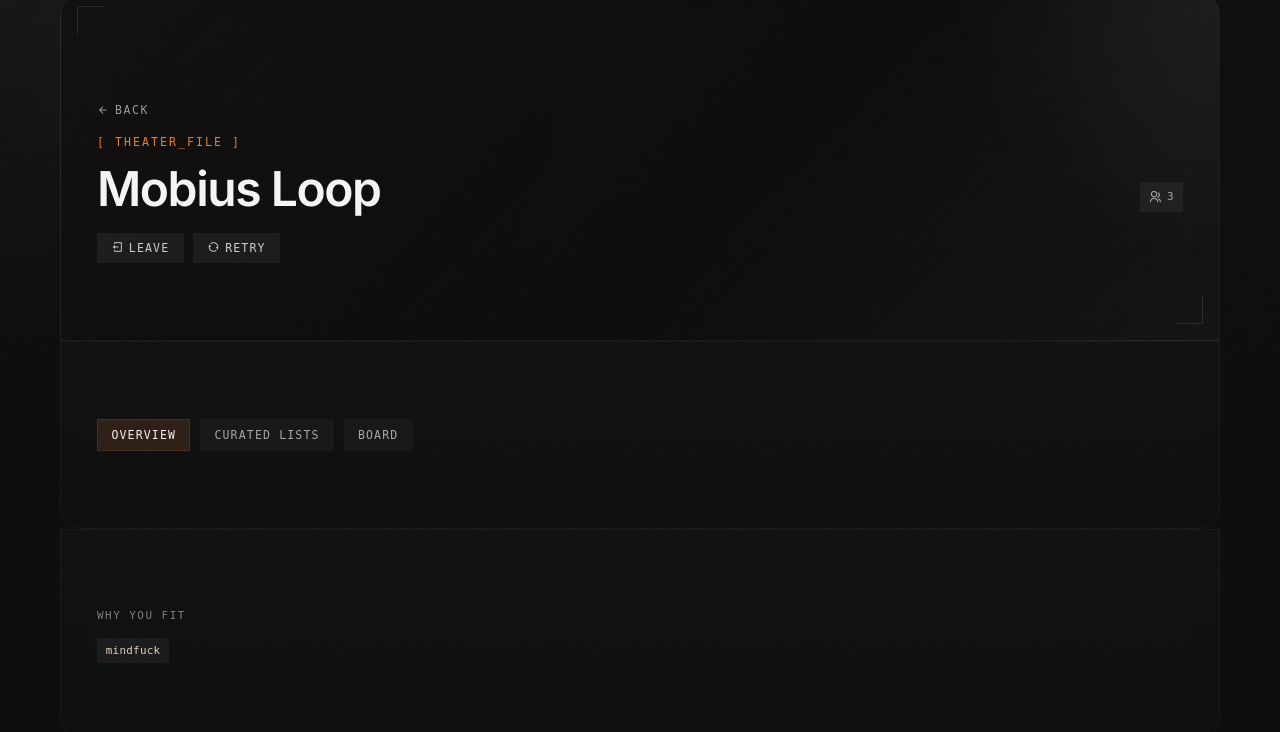
Scenario: TheaterDetailPage › appends and removes list items
The width and height of the screenshot is (1280, 732).
Click the tab "Curated Lists" at (267,435), box [200,419,334,451]
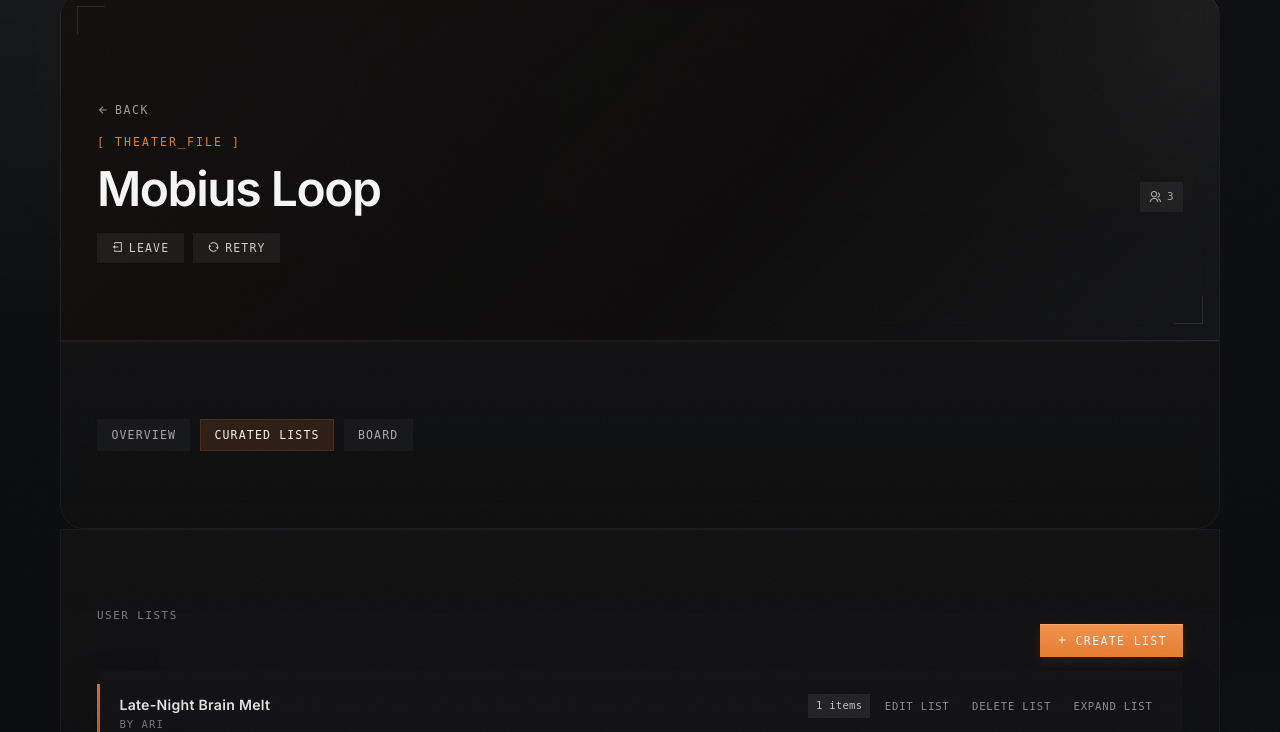
Now the text "Late-Night Brain Melt" is shown, box [119,694,270,716]
Click the button "Expand List" at (1113,706), box [1066,695,1161,716]
(page scrolled)
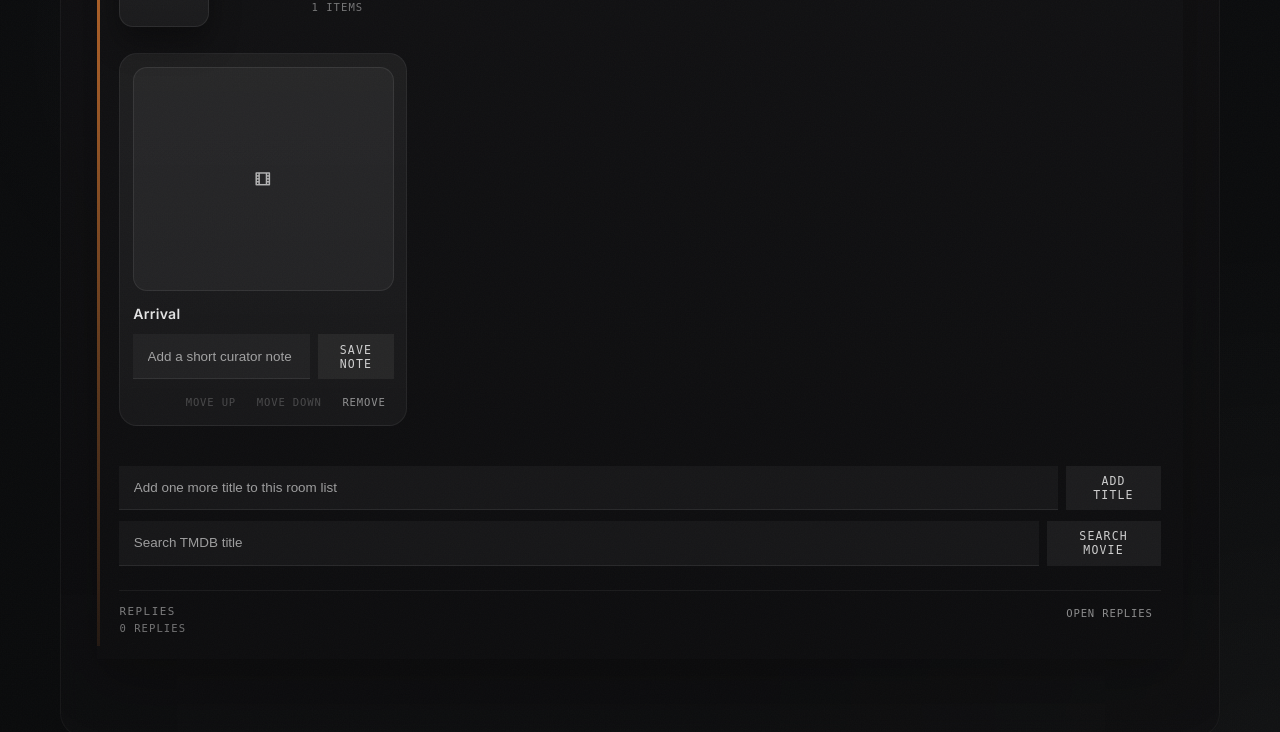
Type "Burning" into the field with placeholder "Add one more title to this room list" at (589,488), box [119,466,1058,510]
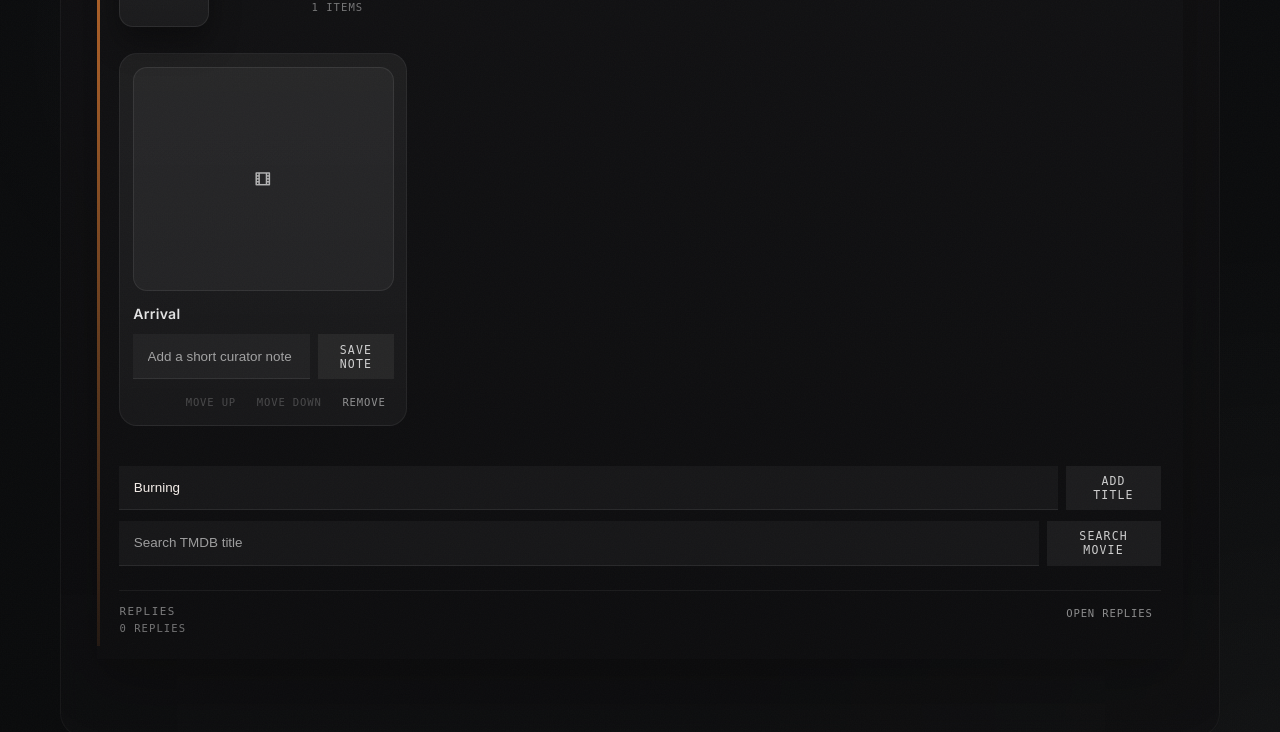
Click the button "Add Title" at (1114,488), box [1066,466,1161,510]
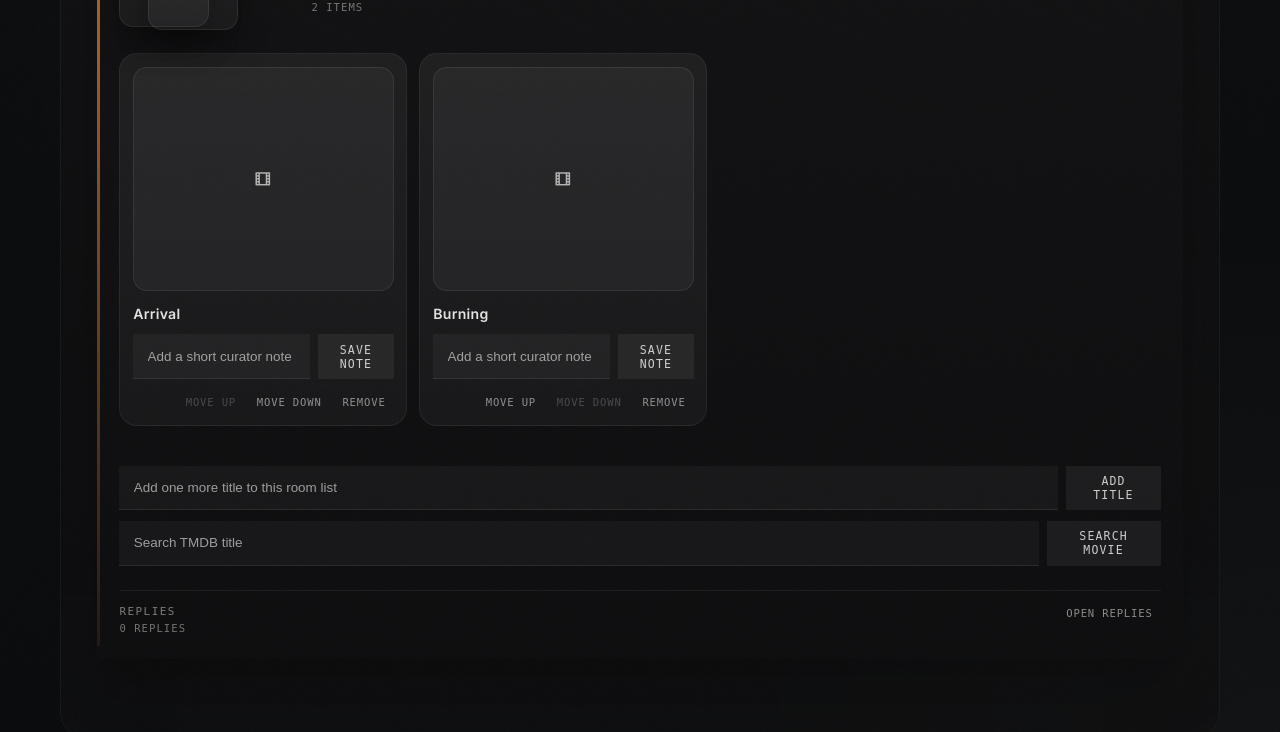
Now the text "Burning" is shown once, box [433,305,488,322]
Click the 1st button "Remove" at (364,402), box [334,391,394,412]
(page scrolled)
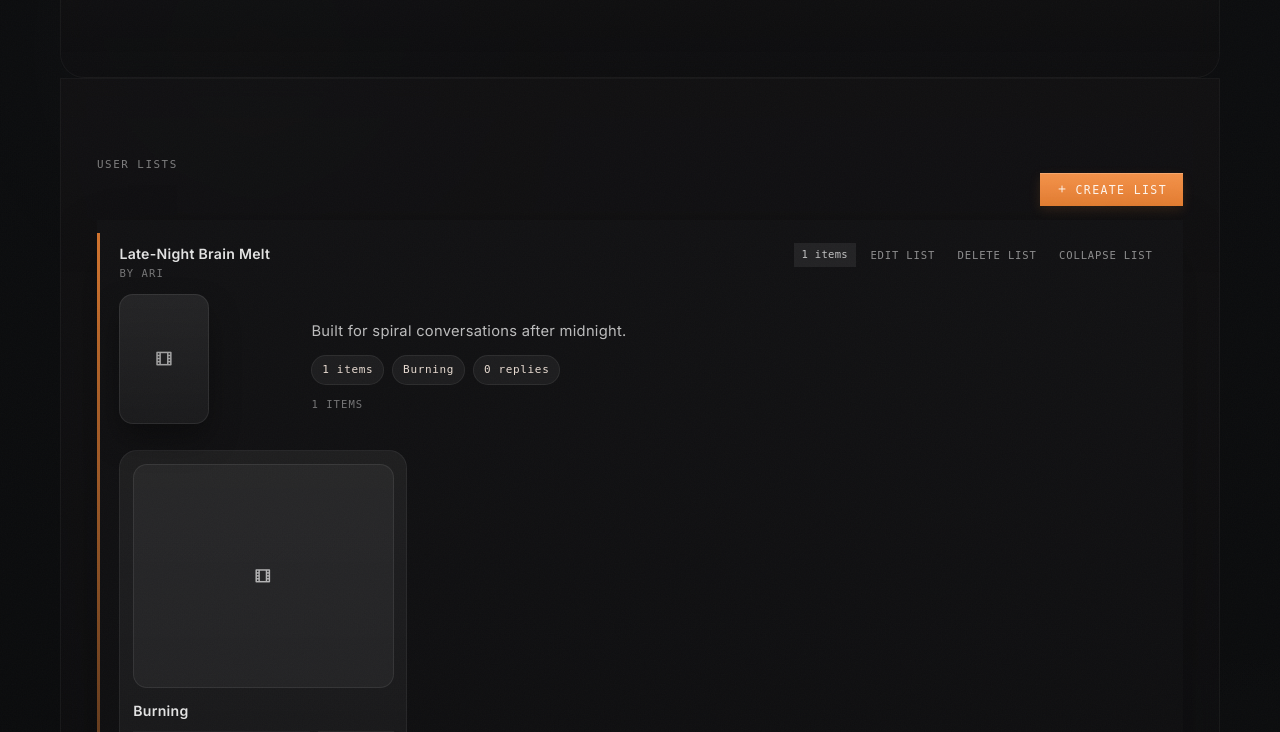
Now the 1st text "Burning" is shown, box [392,354,465,385]
